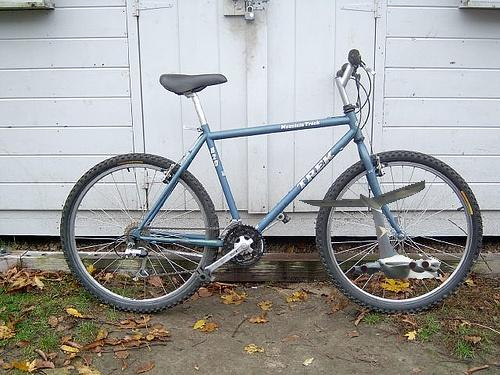tampered: (300, 181, 442, 279)
